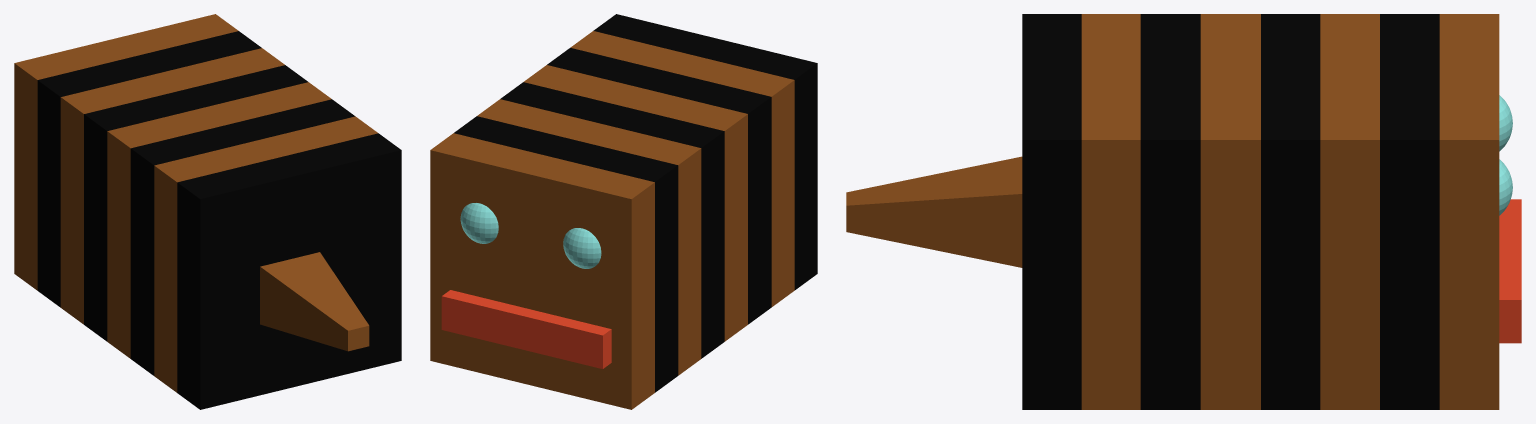
Rendered from normal_bee.glb.
3 renders of one model, left to right at view 1: azimuth 30°, elevation 25°; view 2: azimuth 150°, elevation 25°; view 3: azimuth 270°, elevation 25°, orthographic. The views are drawn at different scales.
Visible parts, largest first — view 1: Cube; view 2: Cube, Cube.001, Sphere, Sphere.001; view 3: Cube, Cube.001.
Part boxes in pixels (x1,y1,x2,y2): Cube: (14,14,401,409); Cube: (430,14,817,409); Cube.001: (441,290,611,368); Sphere: (460,203,498,243); Sphere.001: (563,228,601,268); Cube: (846,14,1499,409); Cube.001: (1499,199,1521,343).
Bounding box in the file's own units: 0.5 × 0.5 × 1.13.
